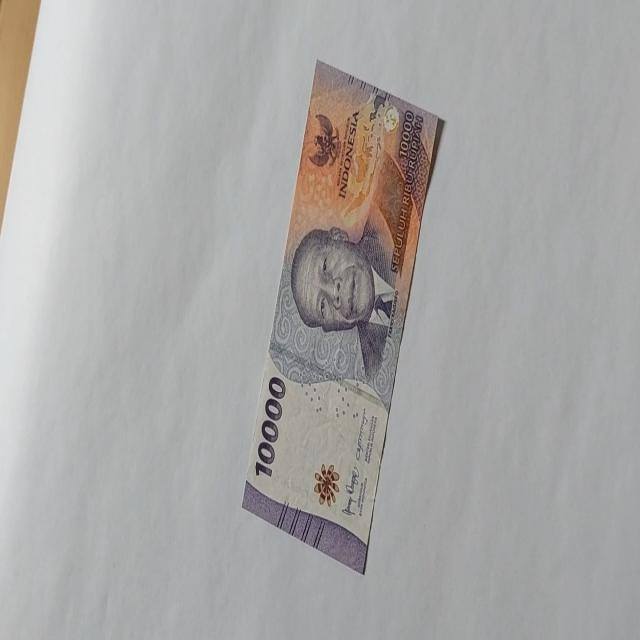sepuluh ribu rupiah: (240, 58, 444, 574), (288, 222, 398, 382)
